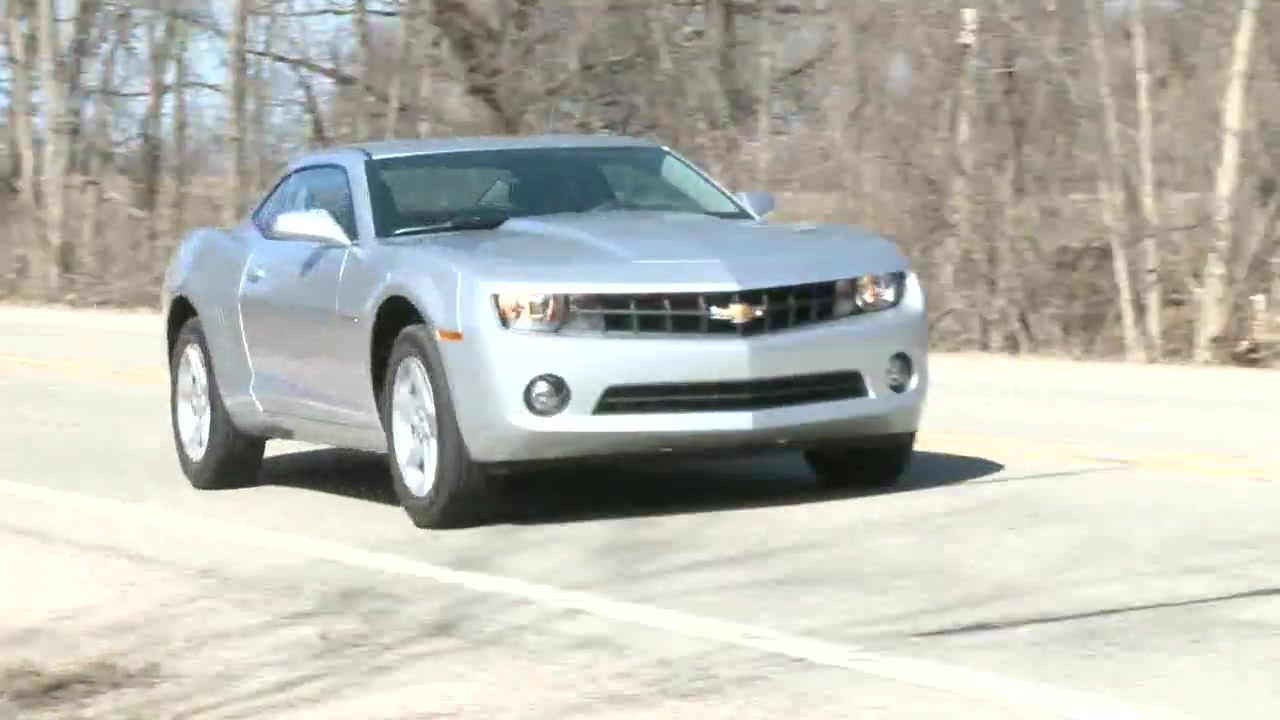car: (155, 133, 933, 532)
